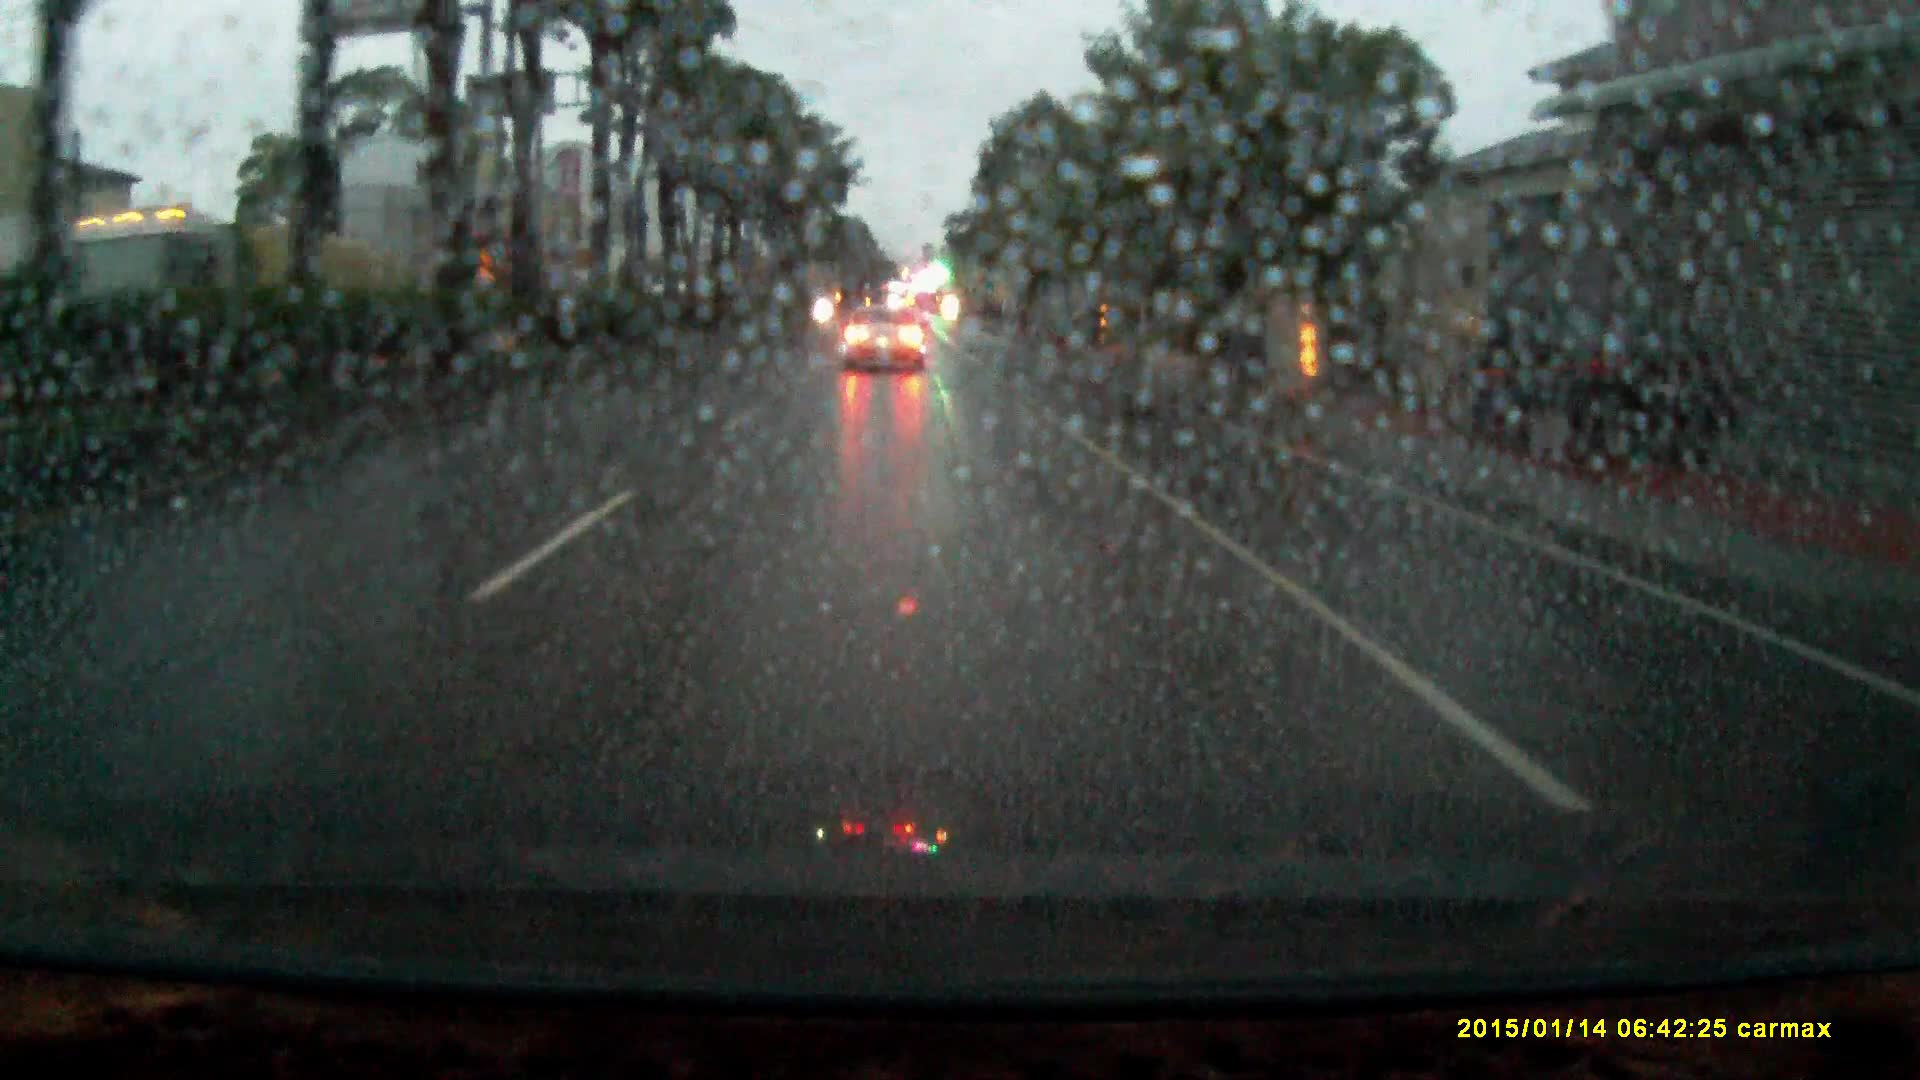vehicle: (57, 210, 400, 373), (1447, 295, 1745, 467), (843, 297, 928, 371)
